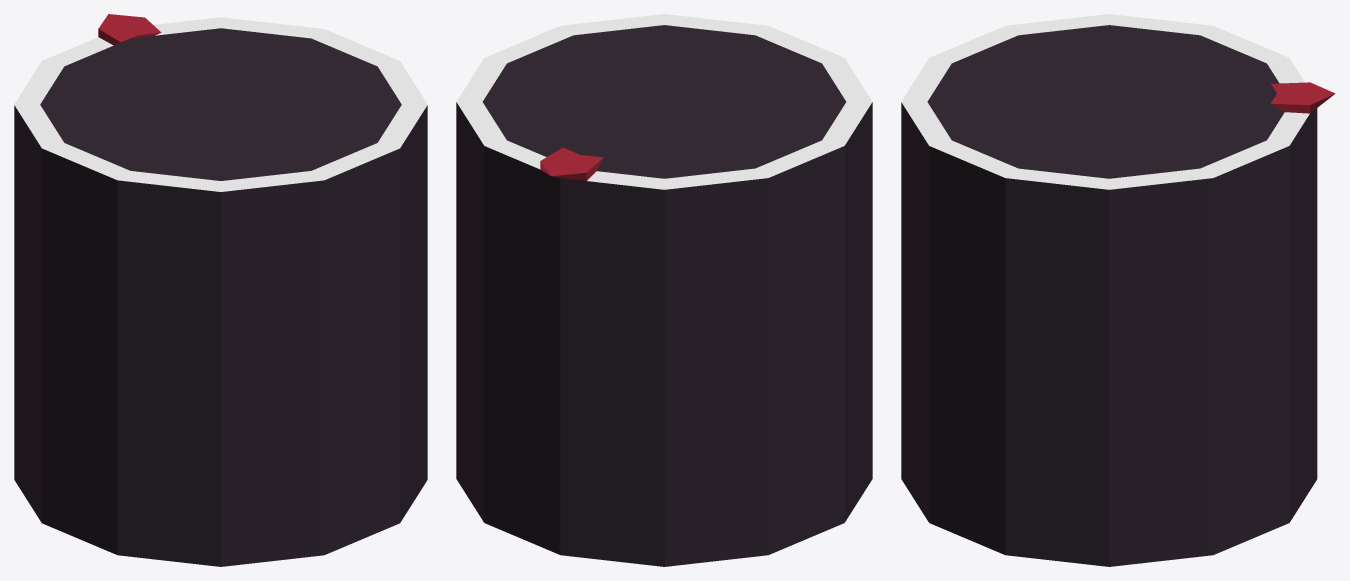
Rendered from Perilla3(2.0).fbx.
3 views of the same model, side by side, from view 1: azimuth 30°, elevation 25°; view 2: azimuth 150°, elevation 25°; view 3: azimuth 270°, elevation 25° (orthographic).
Visible parts, largest first — view 1: Cylinder; view 2: Cylinder; view 3: Cylinder.
Boxes of the visible parts, box(x1,y1,x2,y2) form: Cylinder: box(14, 14, 427, 566); Cylinder: box(456, 14, 872, 566); Cylinder: box(901, 14, 1335, 566).
Bounding box in the file's own units: 200 × 204 × 209.
